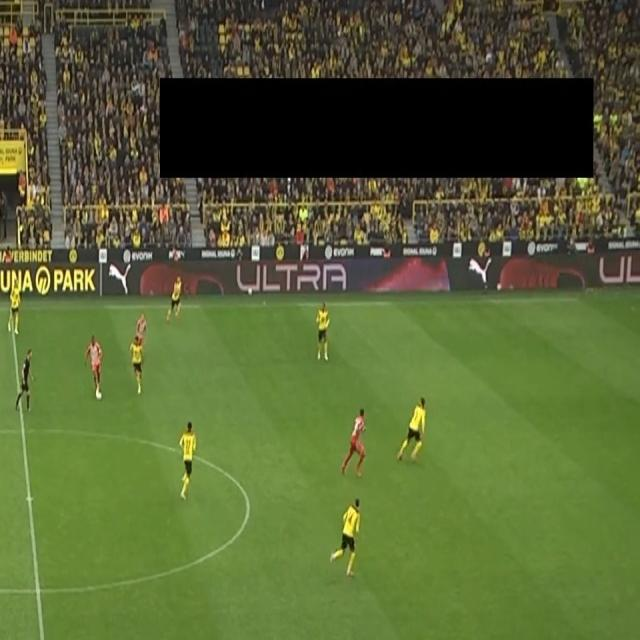ball: (96, 389, 103, 401)
